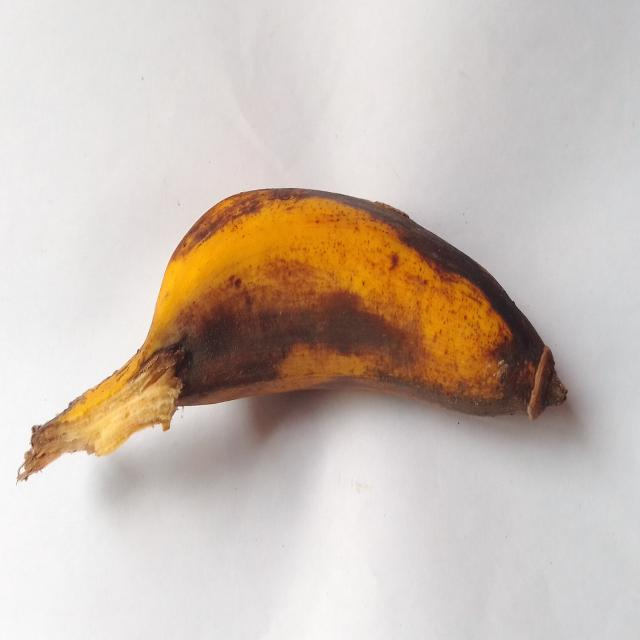banana: (19, 190, 566, 479)
